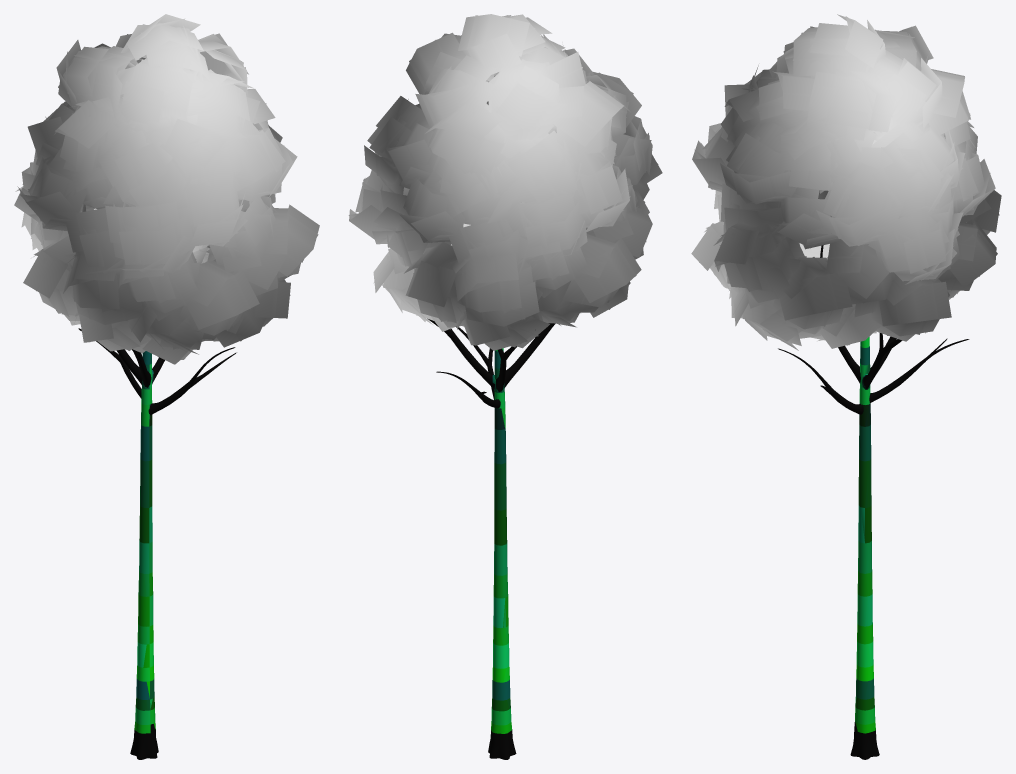
The model's file is SM_tree_chestnut_02.fbx.
3 renders of one model, left to right at view 1: azimuth 30°, elevation 25°; view 2: azimuth 150°, elevation 25°; view 3: azimuth 270°, elevation 25°, orthographic.
Visible parts, largest first — view 1: _142427; view 2: _142427; view 3: _142427.
Part boxes in pixels (x1=…): _142427: x1=14, y1=14, x2=319, y2=759; _142427: x1=348, y1=14, x2=662, y2=759; _142427: x1=691, y1=14, x2=1001, y2=759.
Size of the model in its own units: 187 by 520 by 197.
